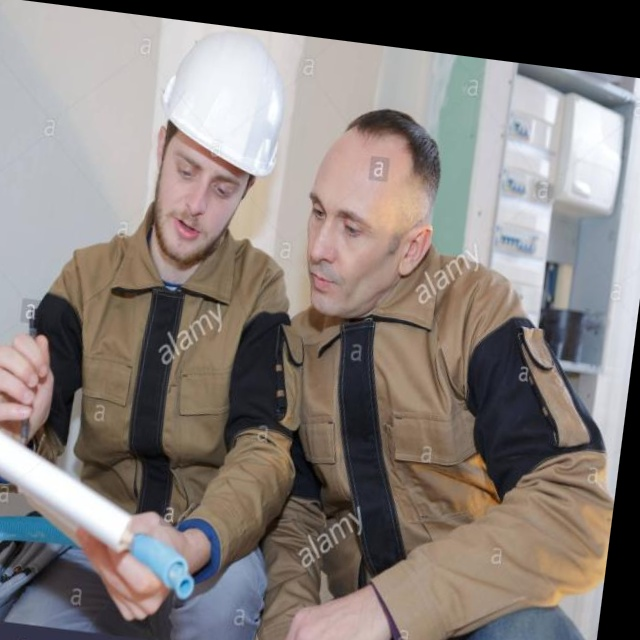Con_Casco: (146, 23, 298, 264)
Sin_Casco_Mascarrilla: (295, 102, 445, 321)
